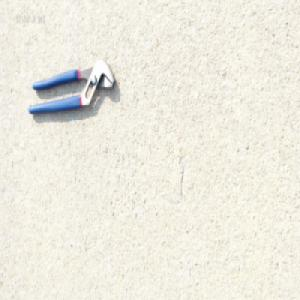Pliers: (26, 58, 117, 116)
